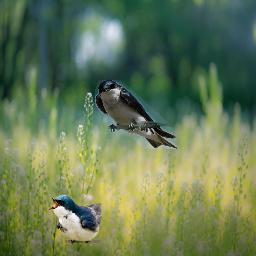Swallow: (95, 80, 177, 149), (47, 193, 102, 245)
